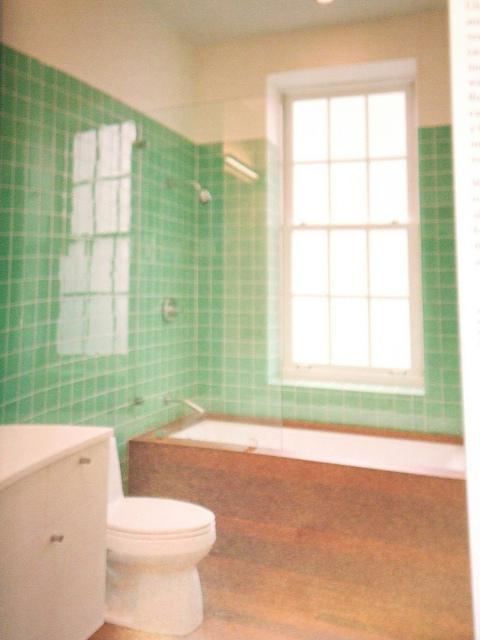Sanitario: (64, 423, 222, 638)
